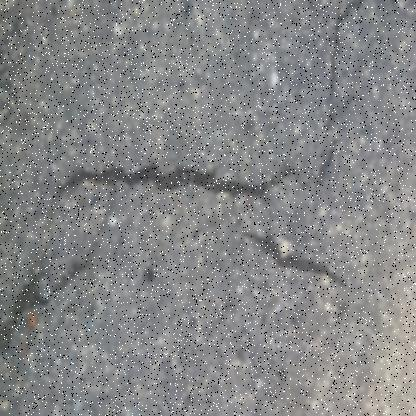Cracks: (57, 0, 372, 203), (0, 252, 98, 365), (241, 218, 348, 292)
